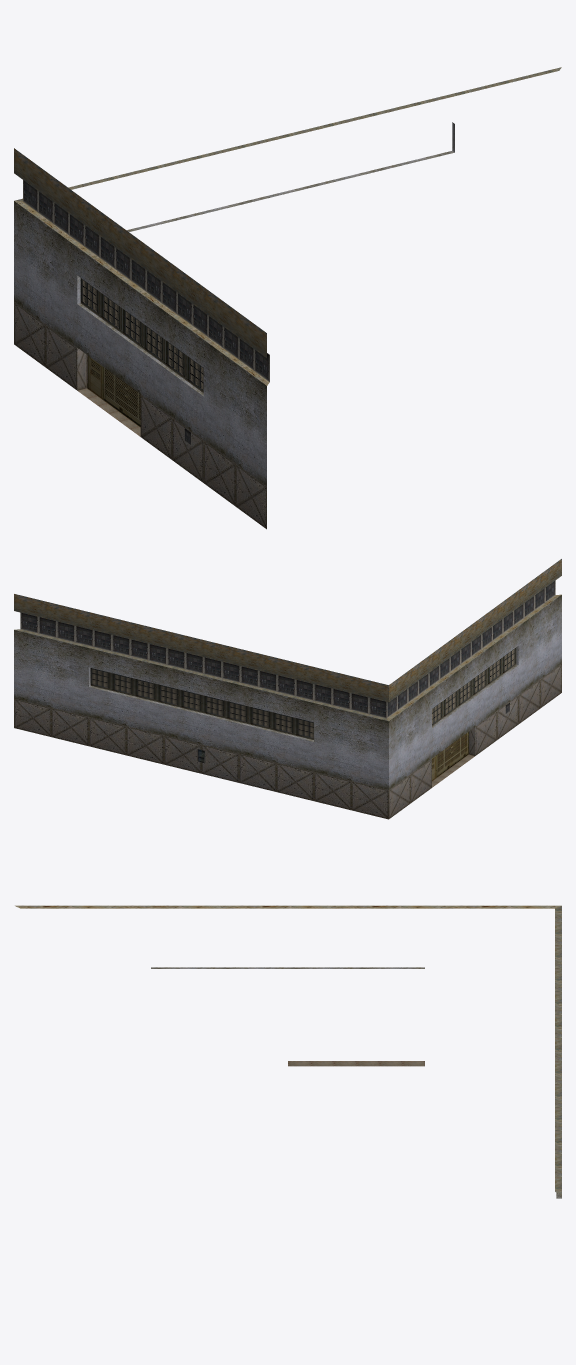
File: M11Z1_Building01_A.glb
3 renders of one model, top to bottom at view 1: azimuth 30°, elevation 25°; view 2: azimuth 150°, elevation 25°; view 3: azimuth 270°, elevation 25°, orthographic. The views are drawn at different scales.
Parts seen in each view (by area): view 1: M11Z1_BUILDING01_A; view 2: M11Z1_BUILDING01_A; view 3: M11Z1_BUILDING01_A.
Boxes of the visible parts, left/top/right/bottom form: M11Z1_BUILDING01_A: left=14, top=67, right=561, bottom=529; M11Z1_BUILDING01_A: left=14, top=559, right=561, bottom=819; M11Z1_BUILDING01_A: left=15, top=905, right=561, bottom=1198.
Size of the model in its own units: 40 by 13.7 by 32.
8 materials, 8 textured.
